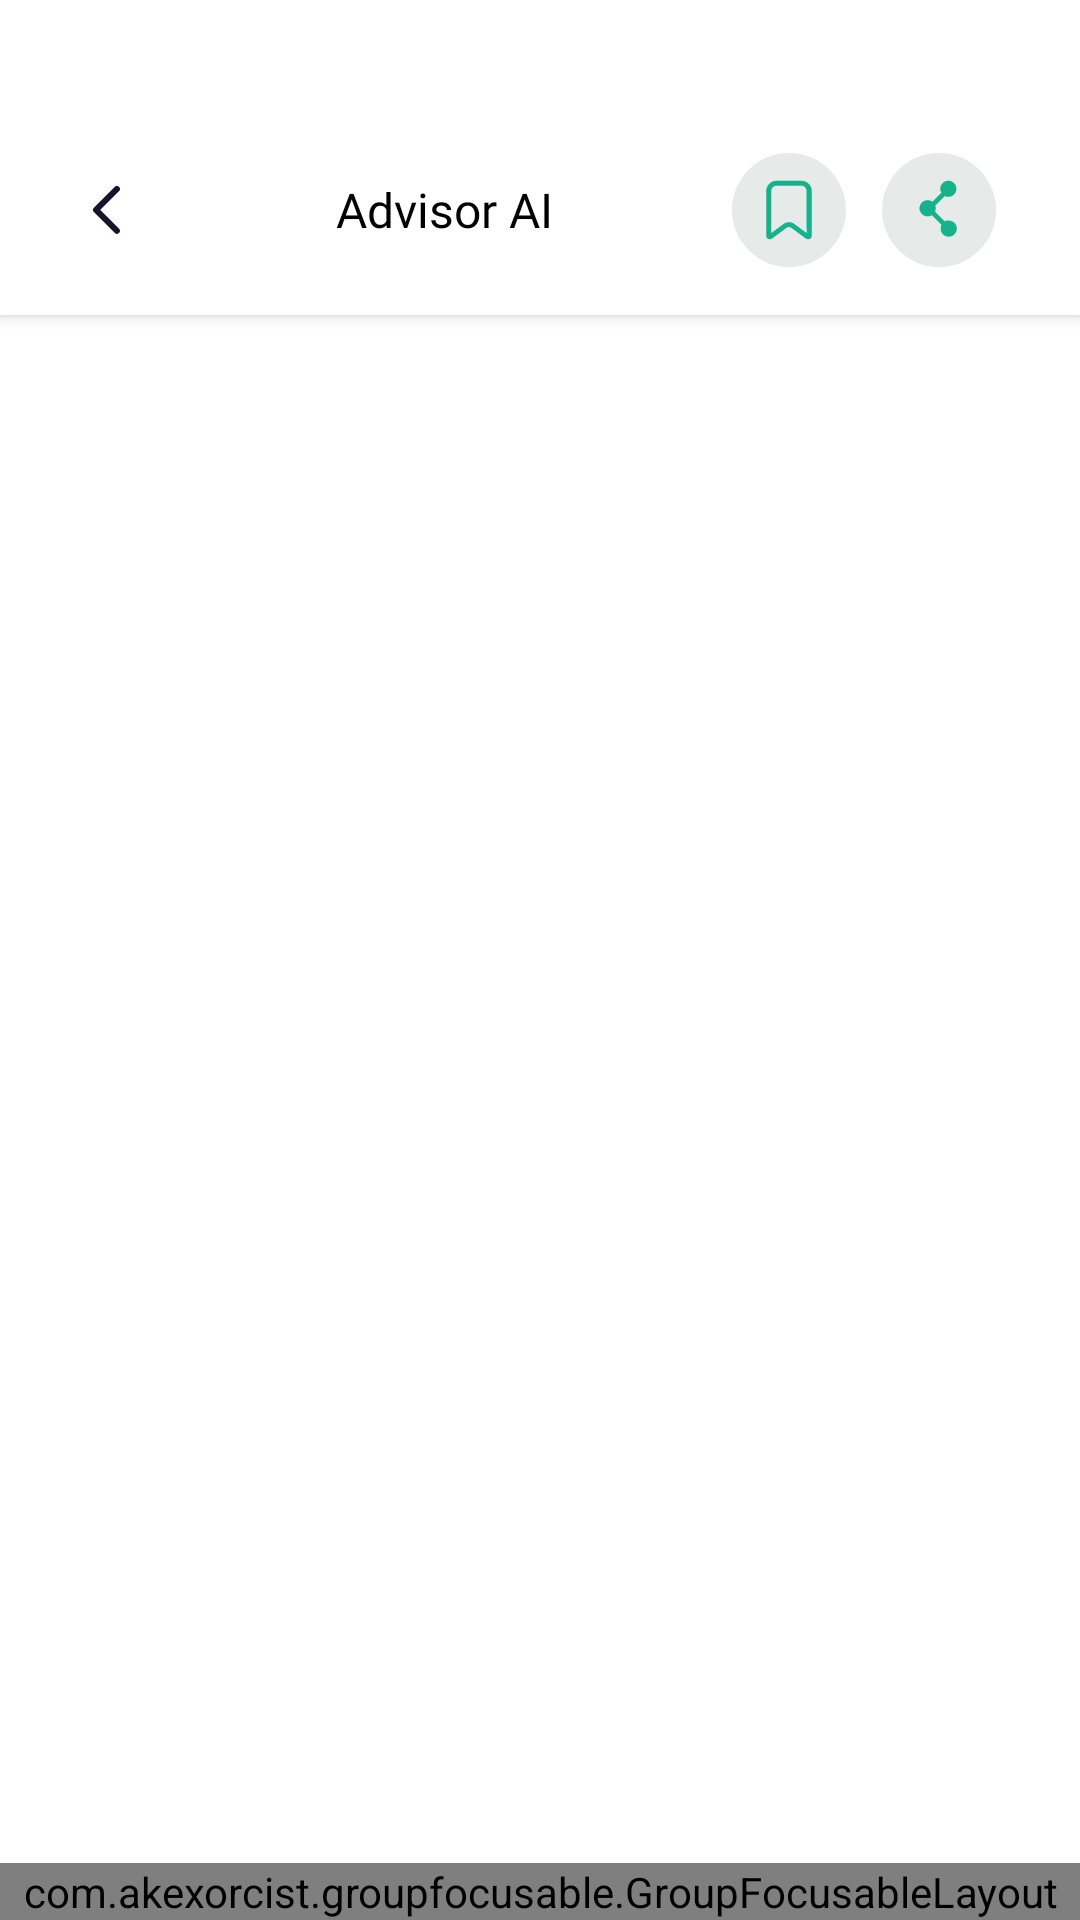

Icon click points for this 1080*1920 phone screenshot, format (x=x, y=y):
back: (x=106, y=210)
bookmark: (x=789, y=210)
share: (x=939, y=210)
